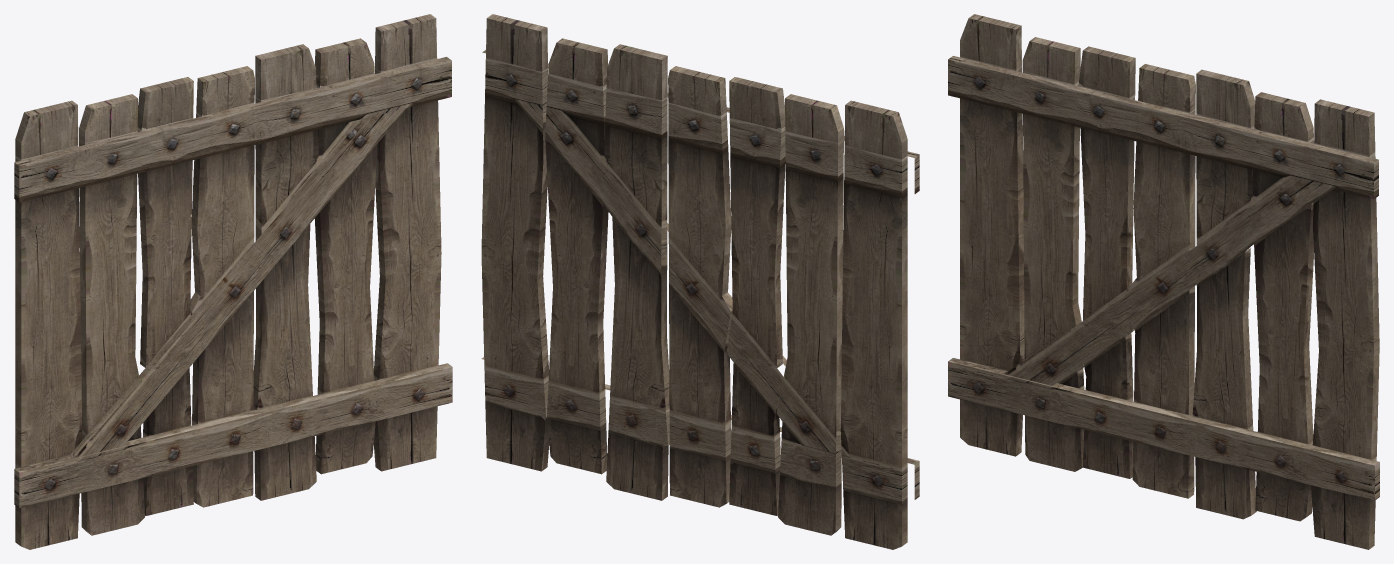
The model's file is wall_plank_lod1.glb.
3 renders of one model, left to right at view 1: azimuth 30°, elevation 25°; view 2: azimuth 150°, elevation 25°; view 3: azimuth 330°, elevation 25°, orthographic.
Visible parts, largest first — view 1: wall_plank_LOD1; view 2: wall_plank_LOD1; view 3: wall_plank_LOD1.
Part boxes in pixels (box(x1,y1,x2,y2)): wall_plank_LOD1: box(14, 14, 452, 549); wall_plank_LOD1: box(481, 14, 919, 549); wall_plank_LOD1: box(948, 14, 1379, 549).
Size of the model in its own units: 1.94 by 1.89 by 0.085.
Materials: 1 (1 with a texture image).
